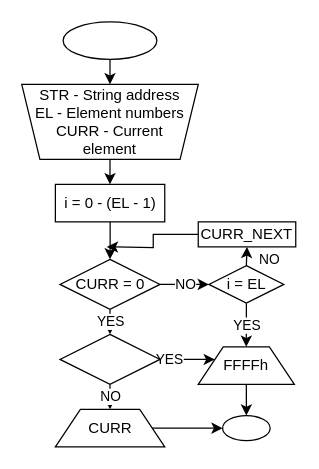
Some shapes in this 319 by 469 pixel diagram are drawn without their labels. Each missing label, with the box of its shape:
END: (221, 414, 270, 441)
i = (EL-1): (59, 333, 160, 384)
START: (62, 21, 157, 59)
